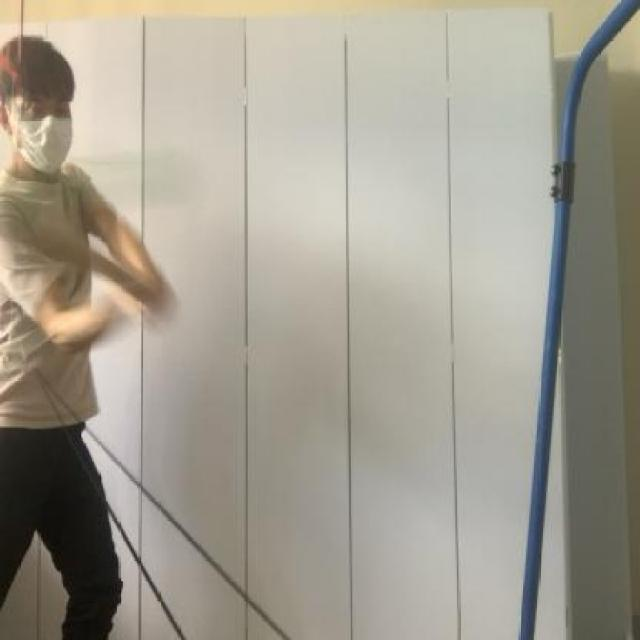baseball: (0, 148, 211, 237)
